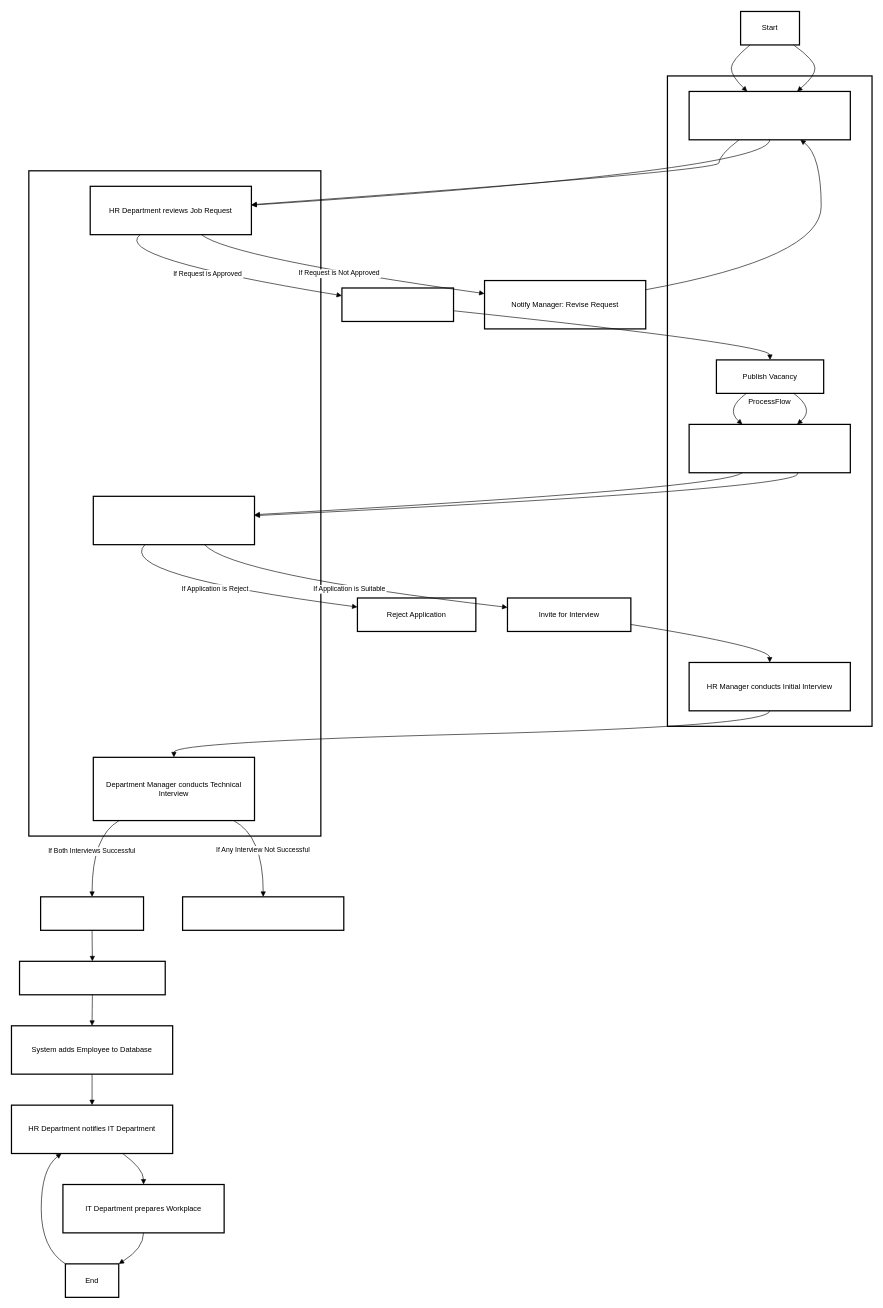
Some shapes in this 883 by 1308 pixel diagram are drawn without their labels. Here are the shapes that lost their labels. From the top down, the centre of each, then its label:
At pixel 769 115: "Department Manager creates Job Request".
At pixel 397 304: "Approve Request".
At pixel 769 448: "Candidates submit Applications".
At pixel 173 520: "HR Department screens Applications".
At pixel 92 913: "Send Job Offer".
At pixel 263 913: "Notify Candidate: Rejection".
At pixel 92 977: "Candidate accepts Offer".
